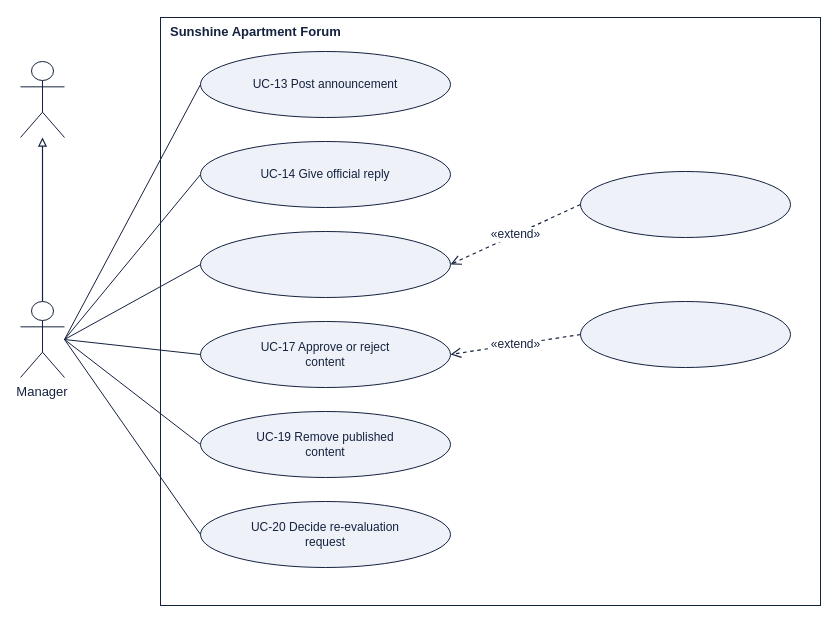
Some shapes in this 838 by 623 pixel diagram are drawn without their labels. Each missing label, with the centre of its shape:
Resident: [42,99]
UC-15 Review moderation queue: [325,264]
UC-16 Reveal redacted text: [685,204]
UC-18 Bulk approve or reject: [685,334]
